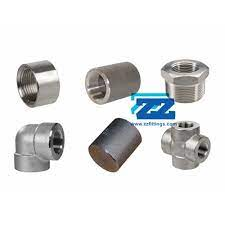Thread: (15, 63, 41, 105), (166, 61, 202, 79)
